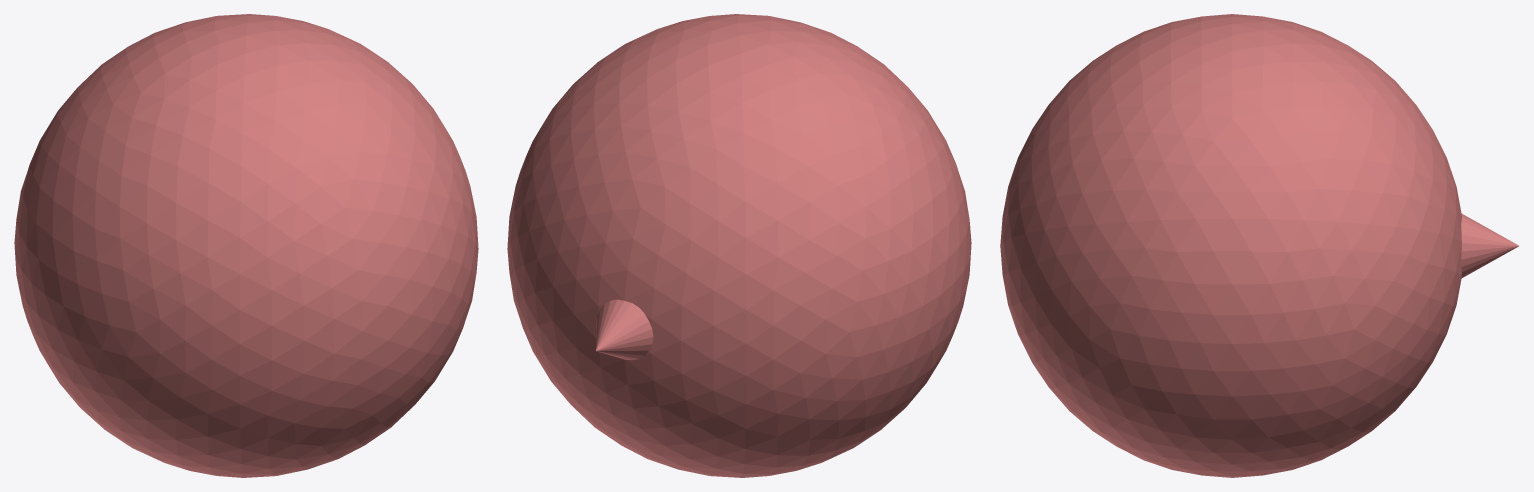
The model's file is balloon.glb.
3 views of the same model, side by side, from view 1: azimuth 30°, elevation 25°; view 2: azimuth 150°, elevation 25°; view 3: azimuth 270°, elevation 25° (orthographic).
Parts seen in each view (by area): view 1: geometry_0; view 2: geometry_0; view 3: geometry_0.
Part boxes in pixels (<box>): geometry_0: <box>14,14,478,477</box>; geometry_0: <box>507,14,971,477</box>; geometry_0: <box>1000,14,1518,477</box>.
Size of the model in its own units: 0.554 by 0.554 by 0.62.
